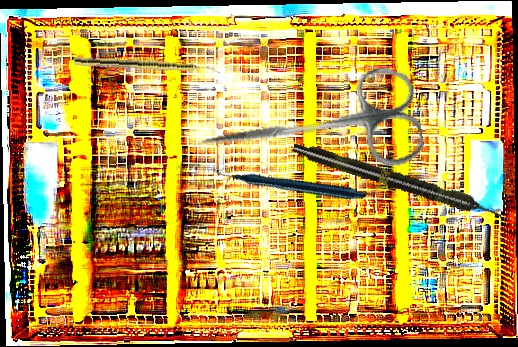Handpiece: (212, 103, 369, 260), (290, 138, 505, 225), (73, 56, 223, 75)
Iris Scissors: (194, 61, 427, 196)
